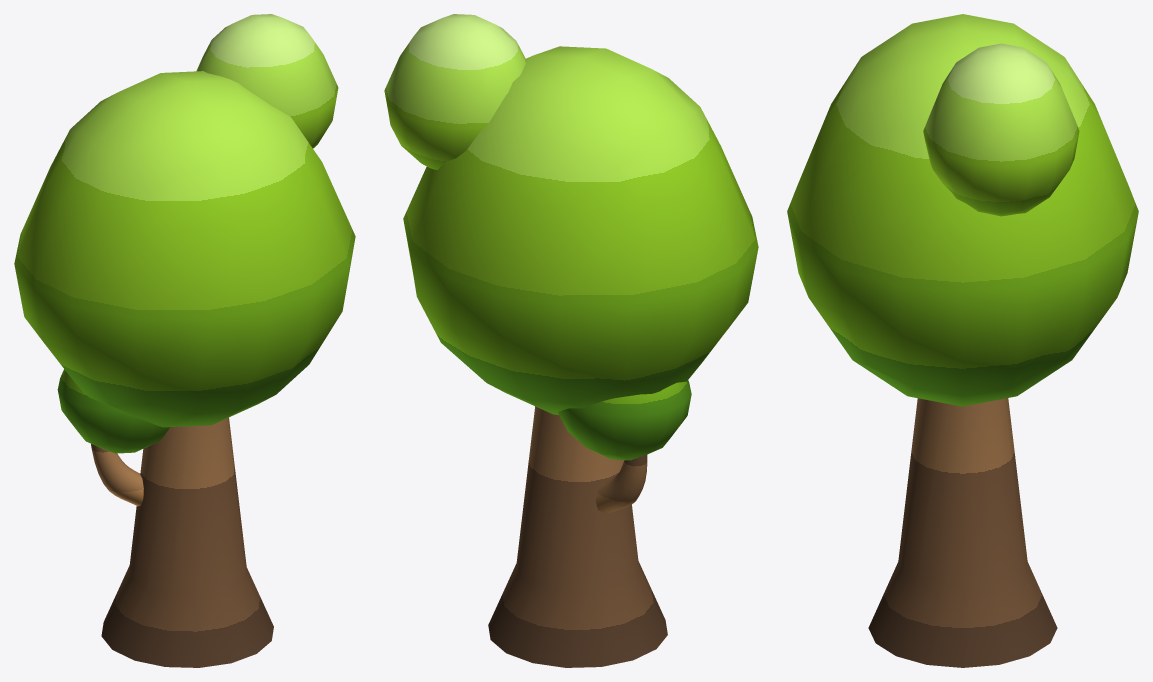
File: Tree_small.fbx
3 renders of one model, left to right at view 1: azimuth 30°, elevation 25°; view 2: azimuth 150°, elevation 25°; view 3: azimuth 270°, elevation 25°, orthographic. The views are drawn at different scales.
Visible parts, largest first — view 1: Roundcube.002; view 2: Roundcube.002; view 3: Roundcube.002.
Boxes of the visible parts, x1,y1,x2,y2 form: Roundcube.002: [14, 14, 355, 667]; Roundcube.002: [384, 14, 758, 667]; Roundcube.002: [787, 14, 1138, 667].
Bounding box in the file's own units: 107 × 187 × 94.9.
